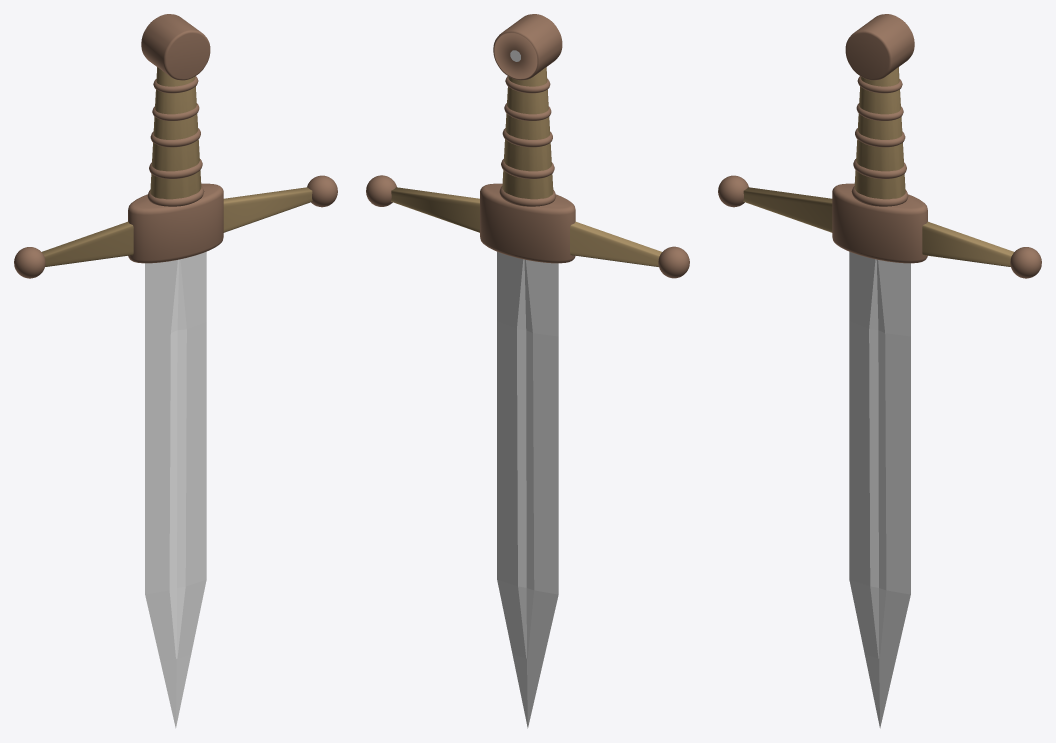
The model's file is Big'OlSword.fbx.
3 renders of one model, left to right at view 1: azimuth 30°, elevation 25°; view 2: azimuth 150°, elevation 25°; view 3: azimuth 330°, elevation 25°, orthographic.
Visible parts, largest first — view 1: Blade, Cylinder; view 2: Blade, Cylinder; view 3: Blade, Cylinder.
Boxes of the visible parts, x1=… form: Blade: x1=145, y1=251, x2=206, y2=728; Cylinder: x1=14, y1=14, x2=337, y2=278; Blade: x1=497, y1=251, x2=558, y2=728; Cylinder: x1=366, y1=14, x2=689, y2=278; Blade: x1=849, y1=251, x2=910, y2=728; Cylinder: x1=718, y1=14, x2=1041, y2=278.
Size of the model in its own units: 8.27 by 17.46 by 1.09.
